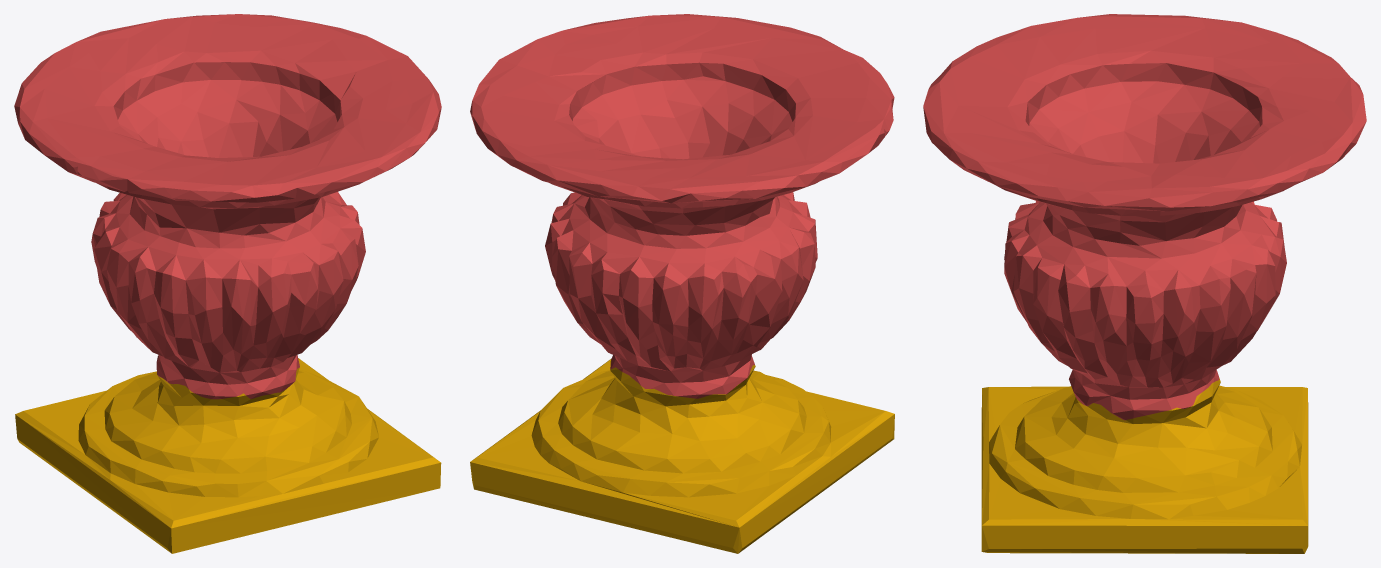
The model's file is mode_1_2pcs.glb.
3 renders of one model, left to right at view 1: azimuth 30°, elevation 25°; view 2: azimuth 150°, elevation 25°; view 3: azimuth 270°, elevation 25°, orthographic. The views are drawn at different scales.
Visible parts, largest first — view 1: piece_1.obj, piece_0.obj; view 2: piece_1.obj, piece_0.obj; view 3: piece_1.obj, piece_0.obj.
Boxes of the visible parts, left/top/right/bottom form: piece_1.obj: left=14, top=14, right=441, bottom=399; piece_0.obj: left=15, top=358, right=441, bottom=553; piece_1.obj: left=470, top=14, right=894, bottom=398; piece_0.obj: left=470, top=358, right=894, bottom=553; piece_1.obj: left=923, top=14, right=1366, bottom=420; piece_0.obj: left=981, top=377, right=1308, bottom=553.
Bounding box in the file's own units: 1 × 0.9482 × 0.997.
